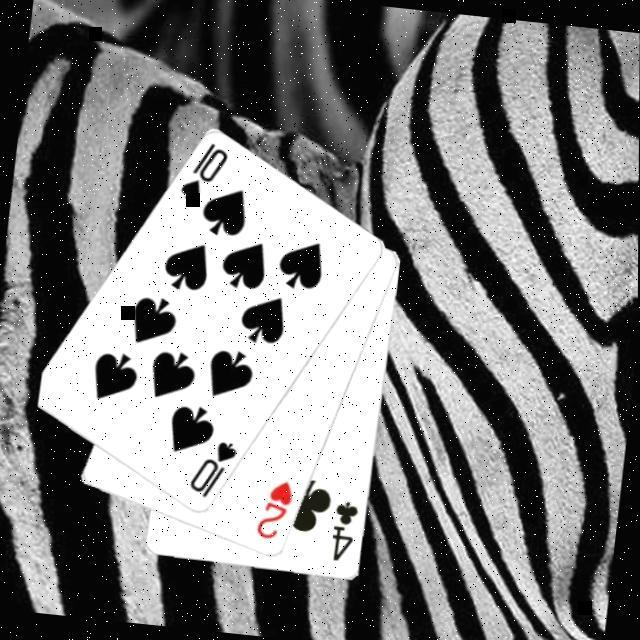10S: (177, 138, 234, 208), (186, 436, 242, 505)
2H: (254, 476, 298, 546)
4C: (328, 498, 363, 566)
